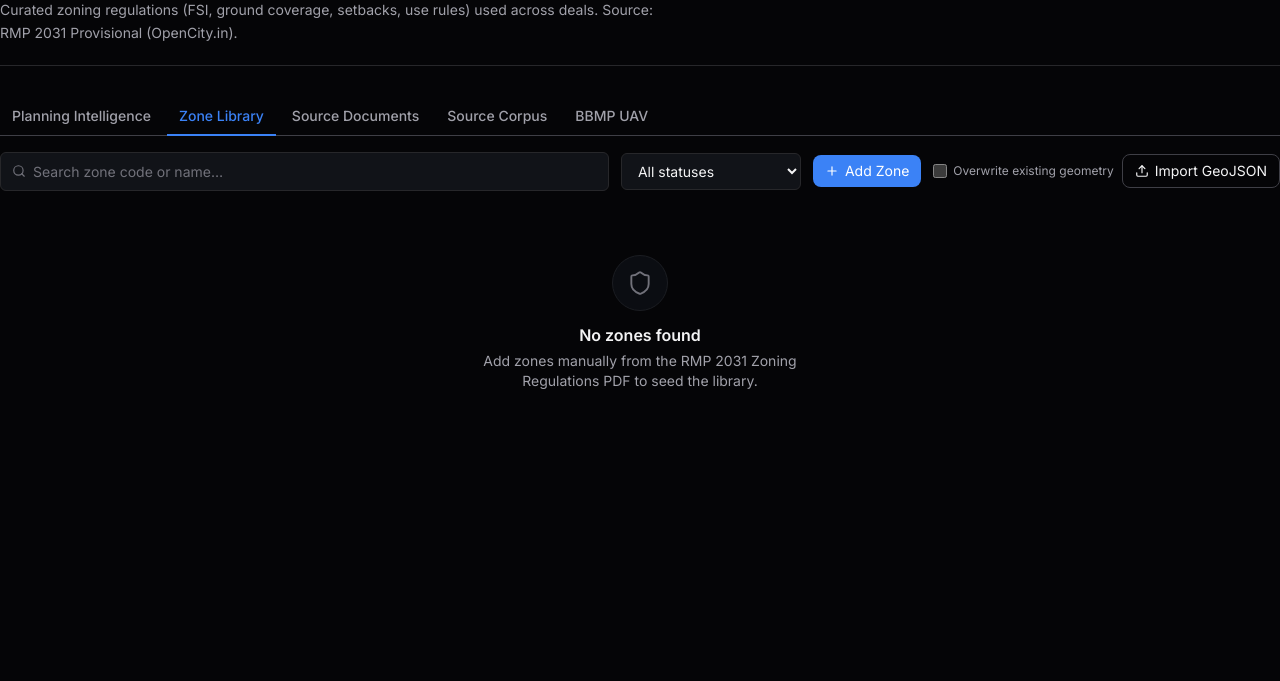
Test: MasterPlanAdminPage source documents › renders queued extraction counts and source actions
This screenshot has width=1280, height=681.
Click the button "Source Documents" at (356, 117), box x1=280 y1=98 x2=431 y2=136
(page scrolled)
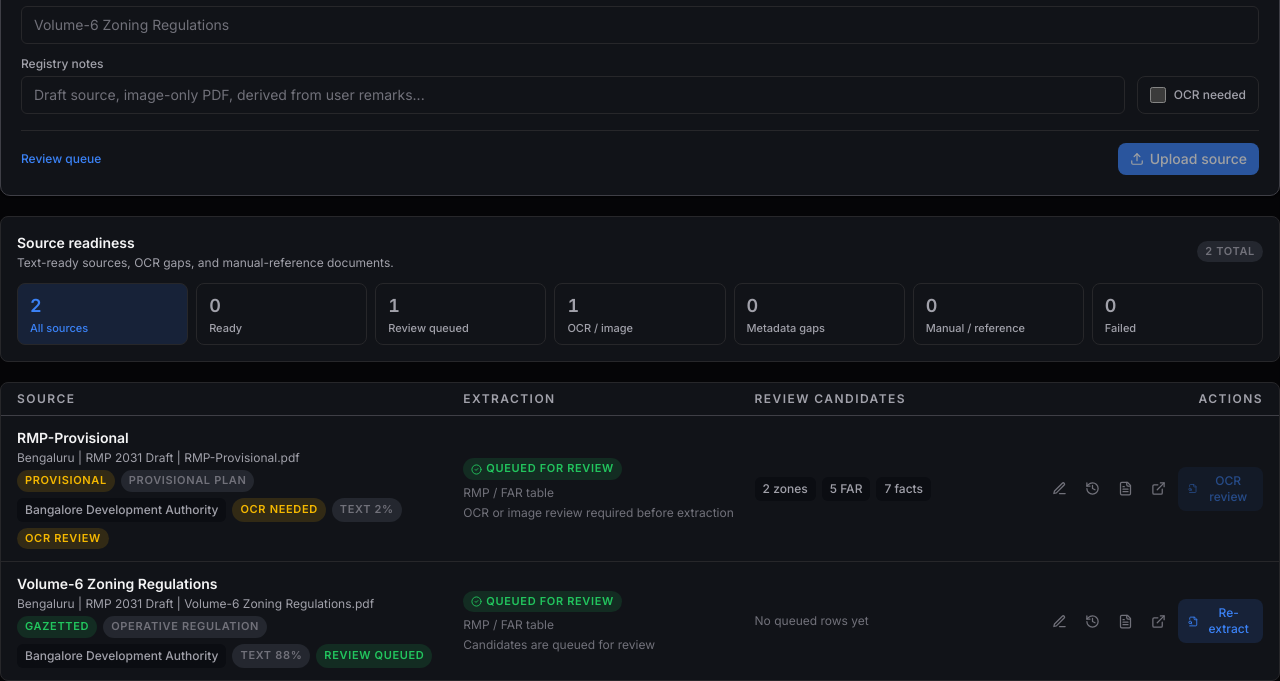
Result: the heading "Source readiness" is shown at x1=17 y1=234 x2=135 y2=251
Result: the text "RMP-Provisional" is shown at x1=17 y1=429 x2=129 y2=446
Result: the text "Volume-6 Zoning Regulations" is shown at x1=17 y1=575 x2=217 y2=592
